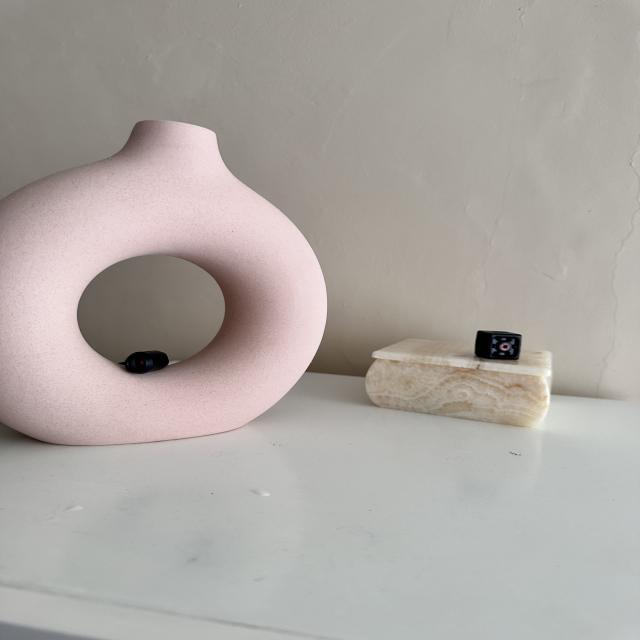hidden camera: (124, 355, 149, 374), (499, 342, 511, 351)
